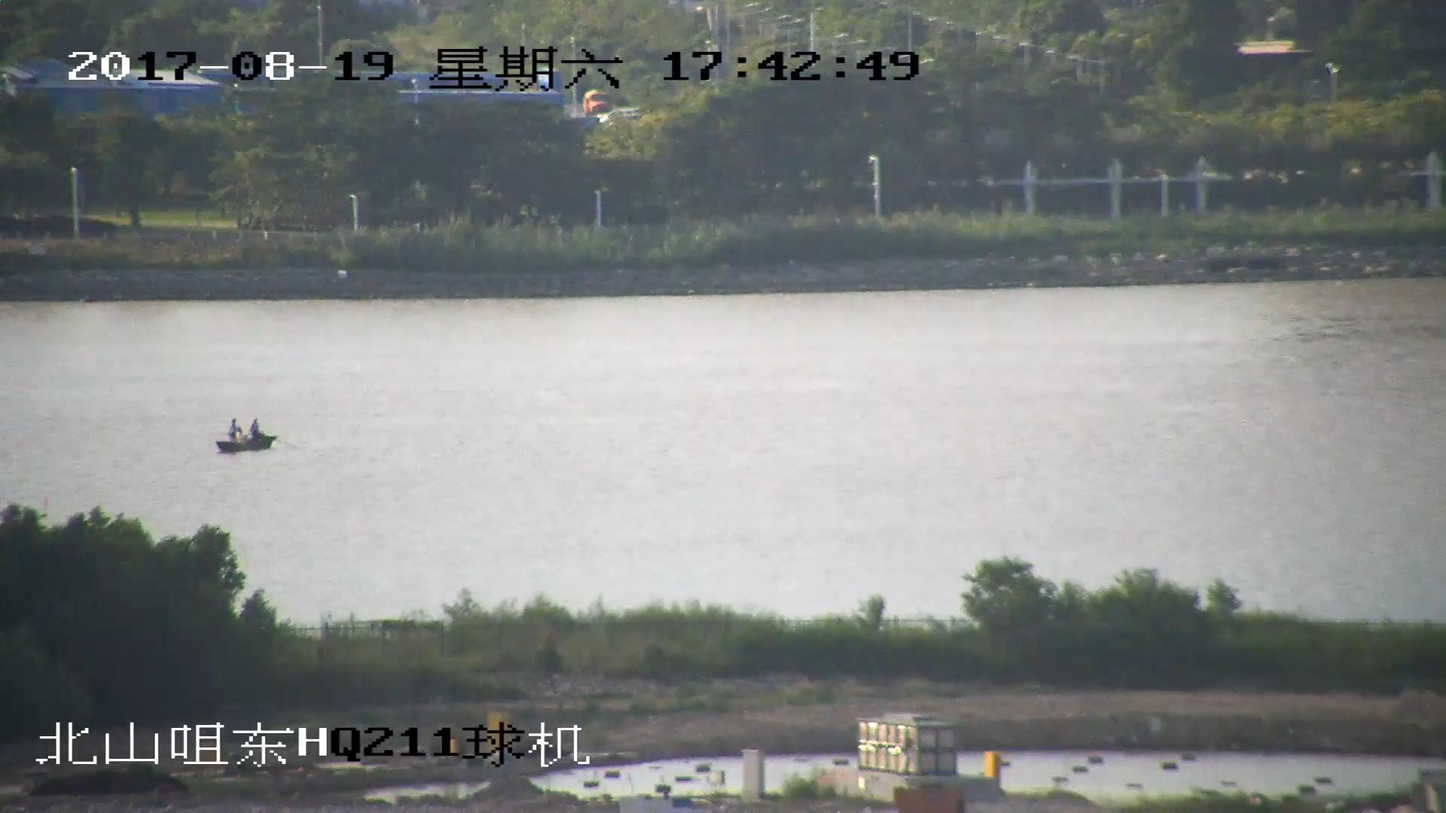fishing boat: (218, 419, 275, 452)
